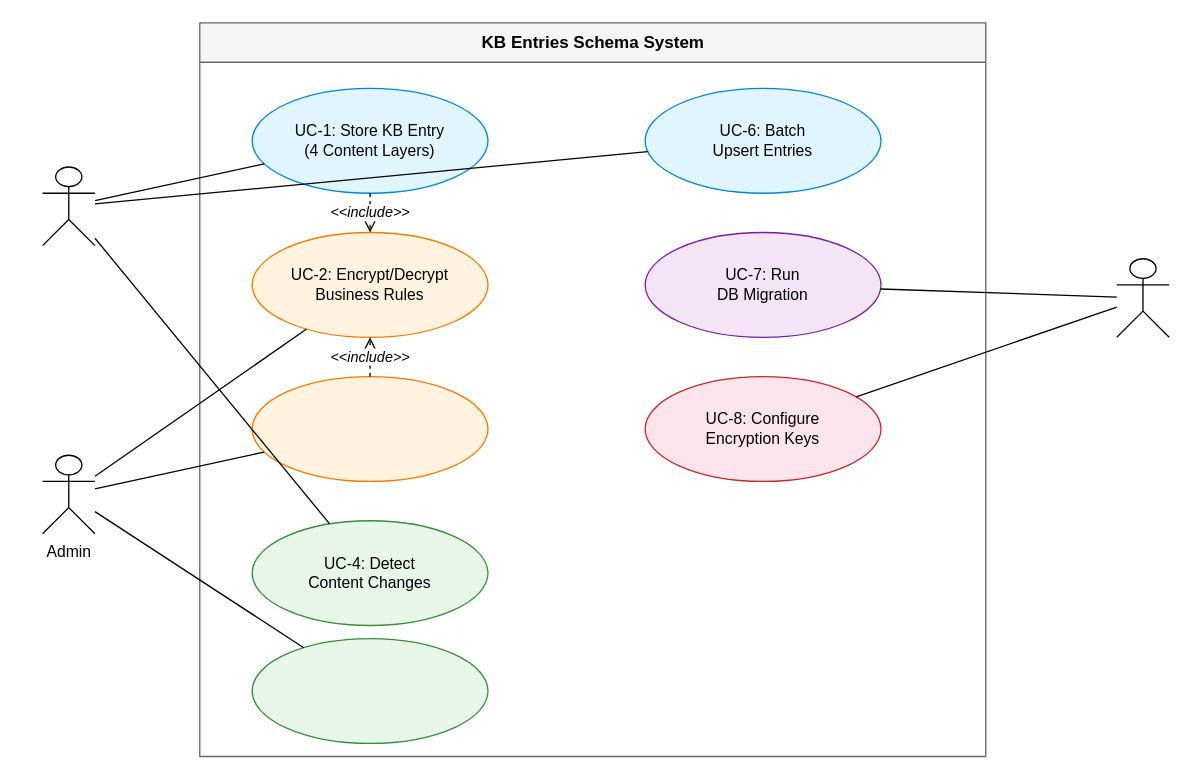
Some shapes in this 1193 by 779 pixel diagram are drawn without their labels. Each missing label, with the box of its shape:
DevOps: (1115, 257, 1169, 337)
Sync Service: (41, 166, 95, 246)
UC-3: Manage PII Mappings: (251, 375, 488, 481)
UC-5: Query KB by Project: (251, 637, 488, 743)
